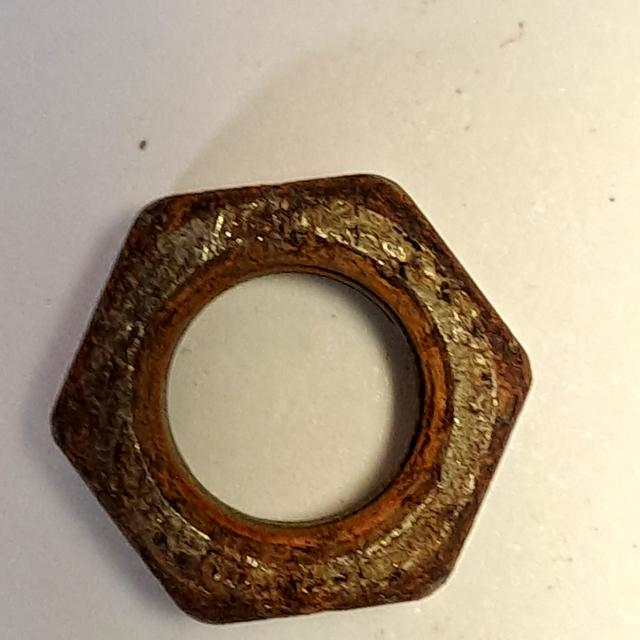Rust: (31, 166, 547, 640)
